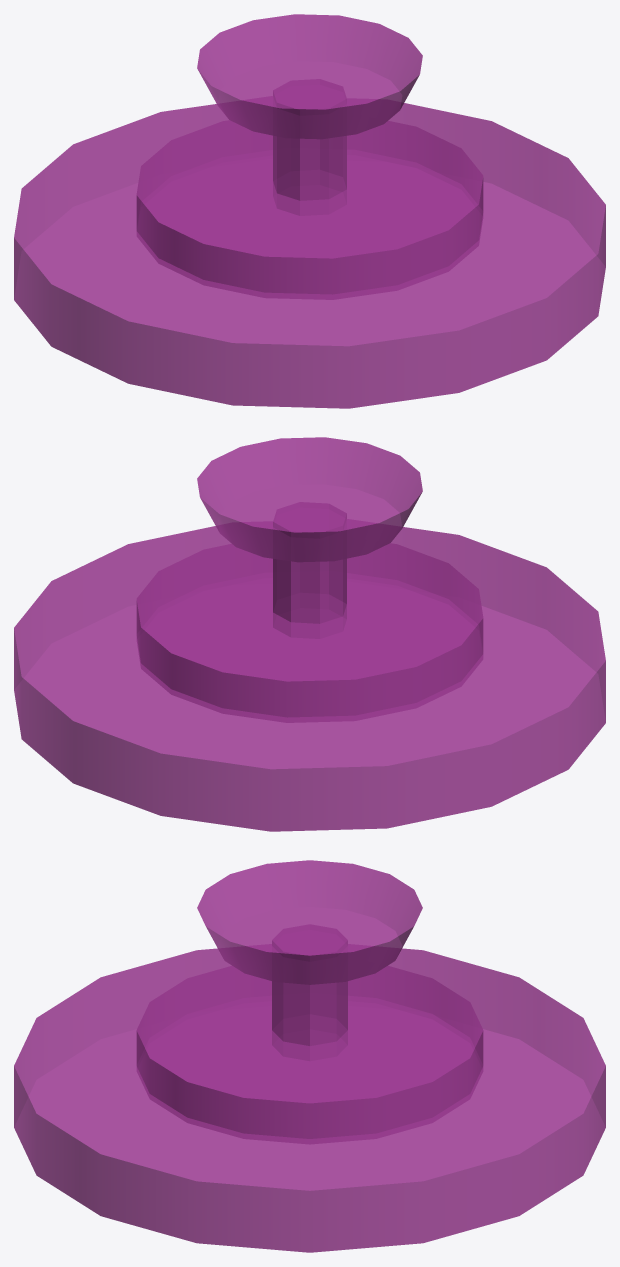
File: SM_Prop_Fountain_01_Collision.fbx
3 views of the same model, one above another, from view 1: azimuth 30°, elevation 25°; view 2: azimuth 150°, elevation 25°; view 3: azimuth 270°, elevation 25° (orthographic).
Parts seen in each view (by area): view 1: SM_Prop_Fountain_01_Collision; view 2: SM_Prop_Fountain_01_Collision; view 3: SM_Prop_Fountain_01_Collision.
Part boxes in pixels (x1,y1,x2,y2): SM_Prop_Fountain_01_Collision: [14, 14, 605, 408]; SM_Prop_Fountain_01_Collision: [14, 437, 605, 831]; SM_Prop_Fountain_01_Collision: [14, 860, 605, 1252].
Bounding box in the file's own units: 591 × 242 × 591.
